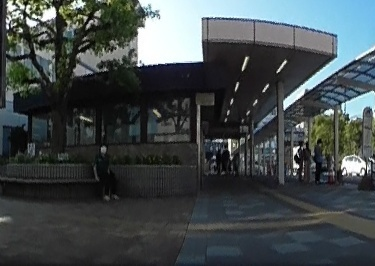person: (93, 142, 118, 202), (314, 136, 325, 184), (303, 140, 313, 182), (296, 141, 306, 180), (220, 144, 231, 173), (233, 149, 244, 173)
